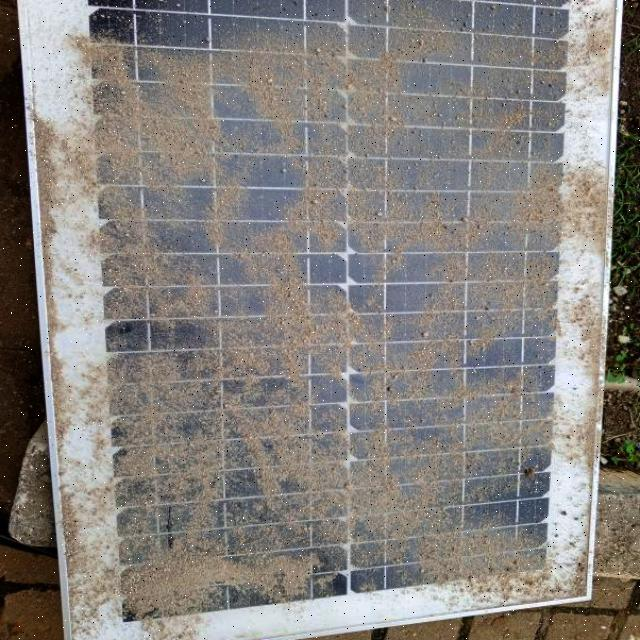Surface Contaminant: (68, 0, 574, 592)
